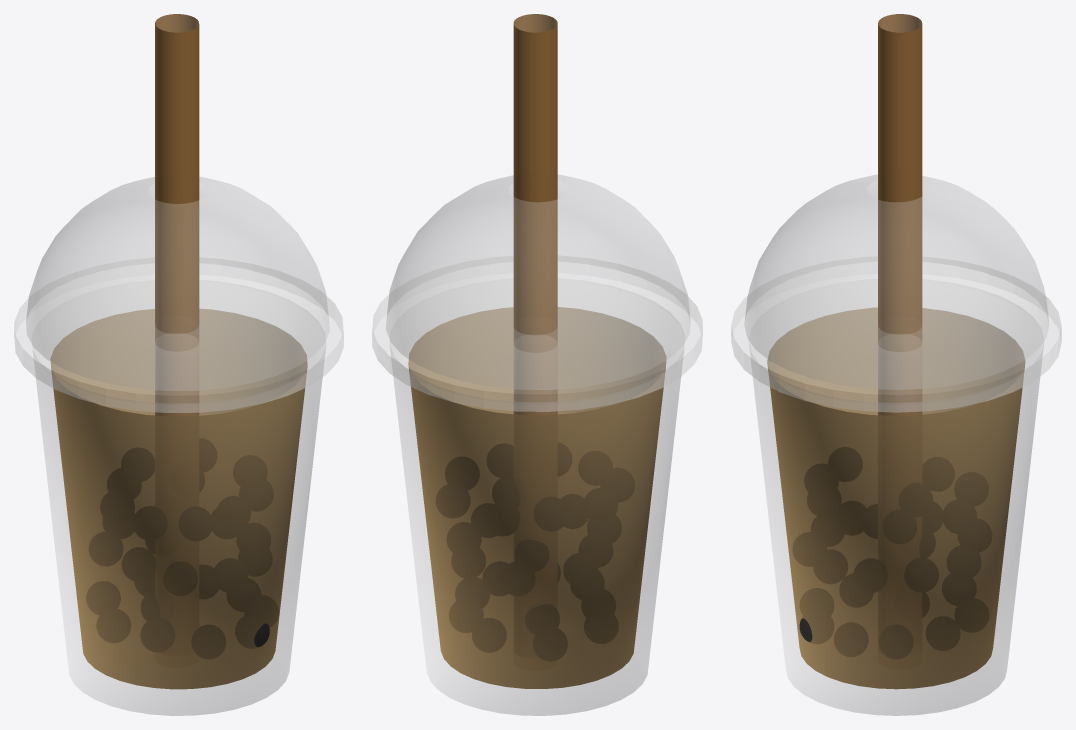
Rendered from bobacup.glb.
3 renders of one model, left to right at view 1: azimuth 30°, elevation 25°; view 2: azimuth 150°, elevation 25°; view 3: azimuth 270°, elevation 25°, orthographic.
Parts seen in each view (by area): view 1: Cylinder.001; view 2: Cylinder.001; view 3: Cylinder.001.
Boxes of the visible parts, x1,y1,x2,y2 form: Cylinder.001: (14,14,343,715); Cylinder.001: (372,14,702,715); Cylinder.001: (731,14,1061,715).
Size of the model in its own units: 1.37 by 2.95 by 1.37.
